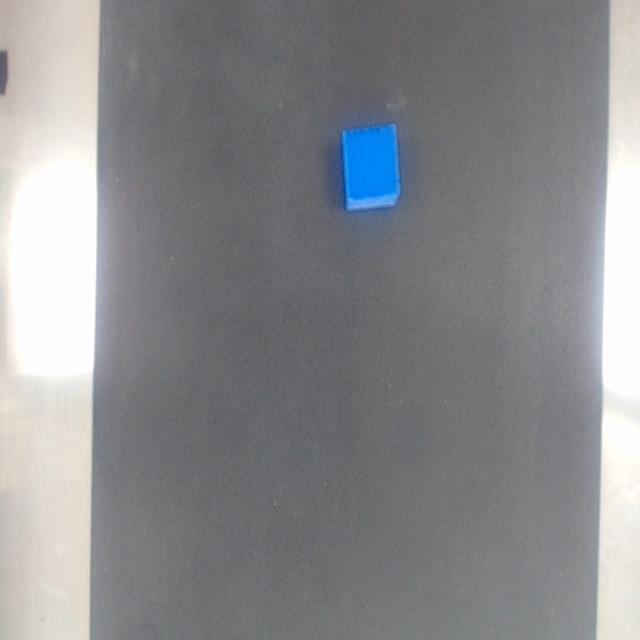Azul: (342, 124, 400, 209)
